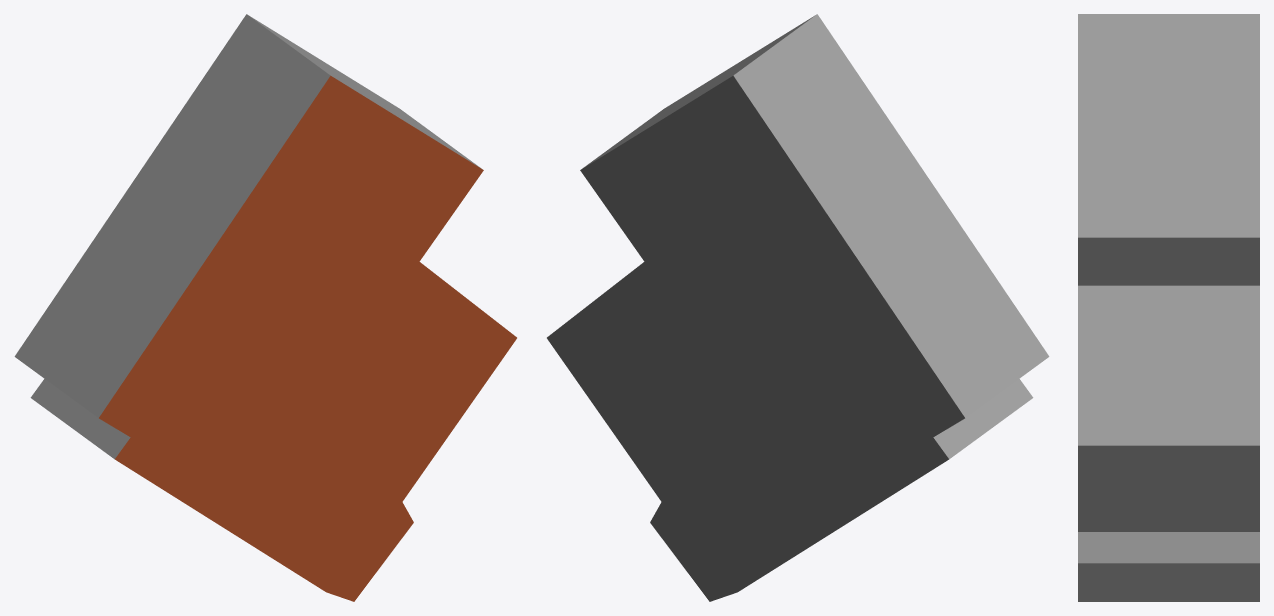
The model's file is construction_2381_assumed_A_Casa_h6m.obj.
3 renders of one model, left to right at view 1: azimuth 30°, elevation 25°; view 2: azimuth 150°, elevation 25°; view 3: azimuth 270°, elevation 25°, orthographic. The views are drawn at different scales.
Parts seen in each view (by area): view 1: construction_2381_assumed_A_Casa; view 2: construction_2381_assumed_A_Casa; view 3: construction_2381_assumed_A_Casa.
Boxes of the visible parts, x1,y1,x2,y2 form: construction_2381_assumed_A_Casa: [14, 14, 516, 601]; construction_2381_assumed_A_Casa: [547, 14, 1049, 601]; construction_2381_assumed_A_Casa: [1078, 14, 1259, 601].
Size of the model in its own units: 17.25 by 20.94 by 6.
